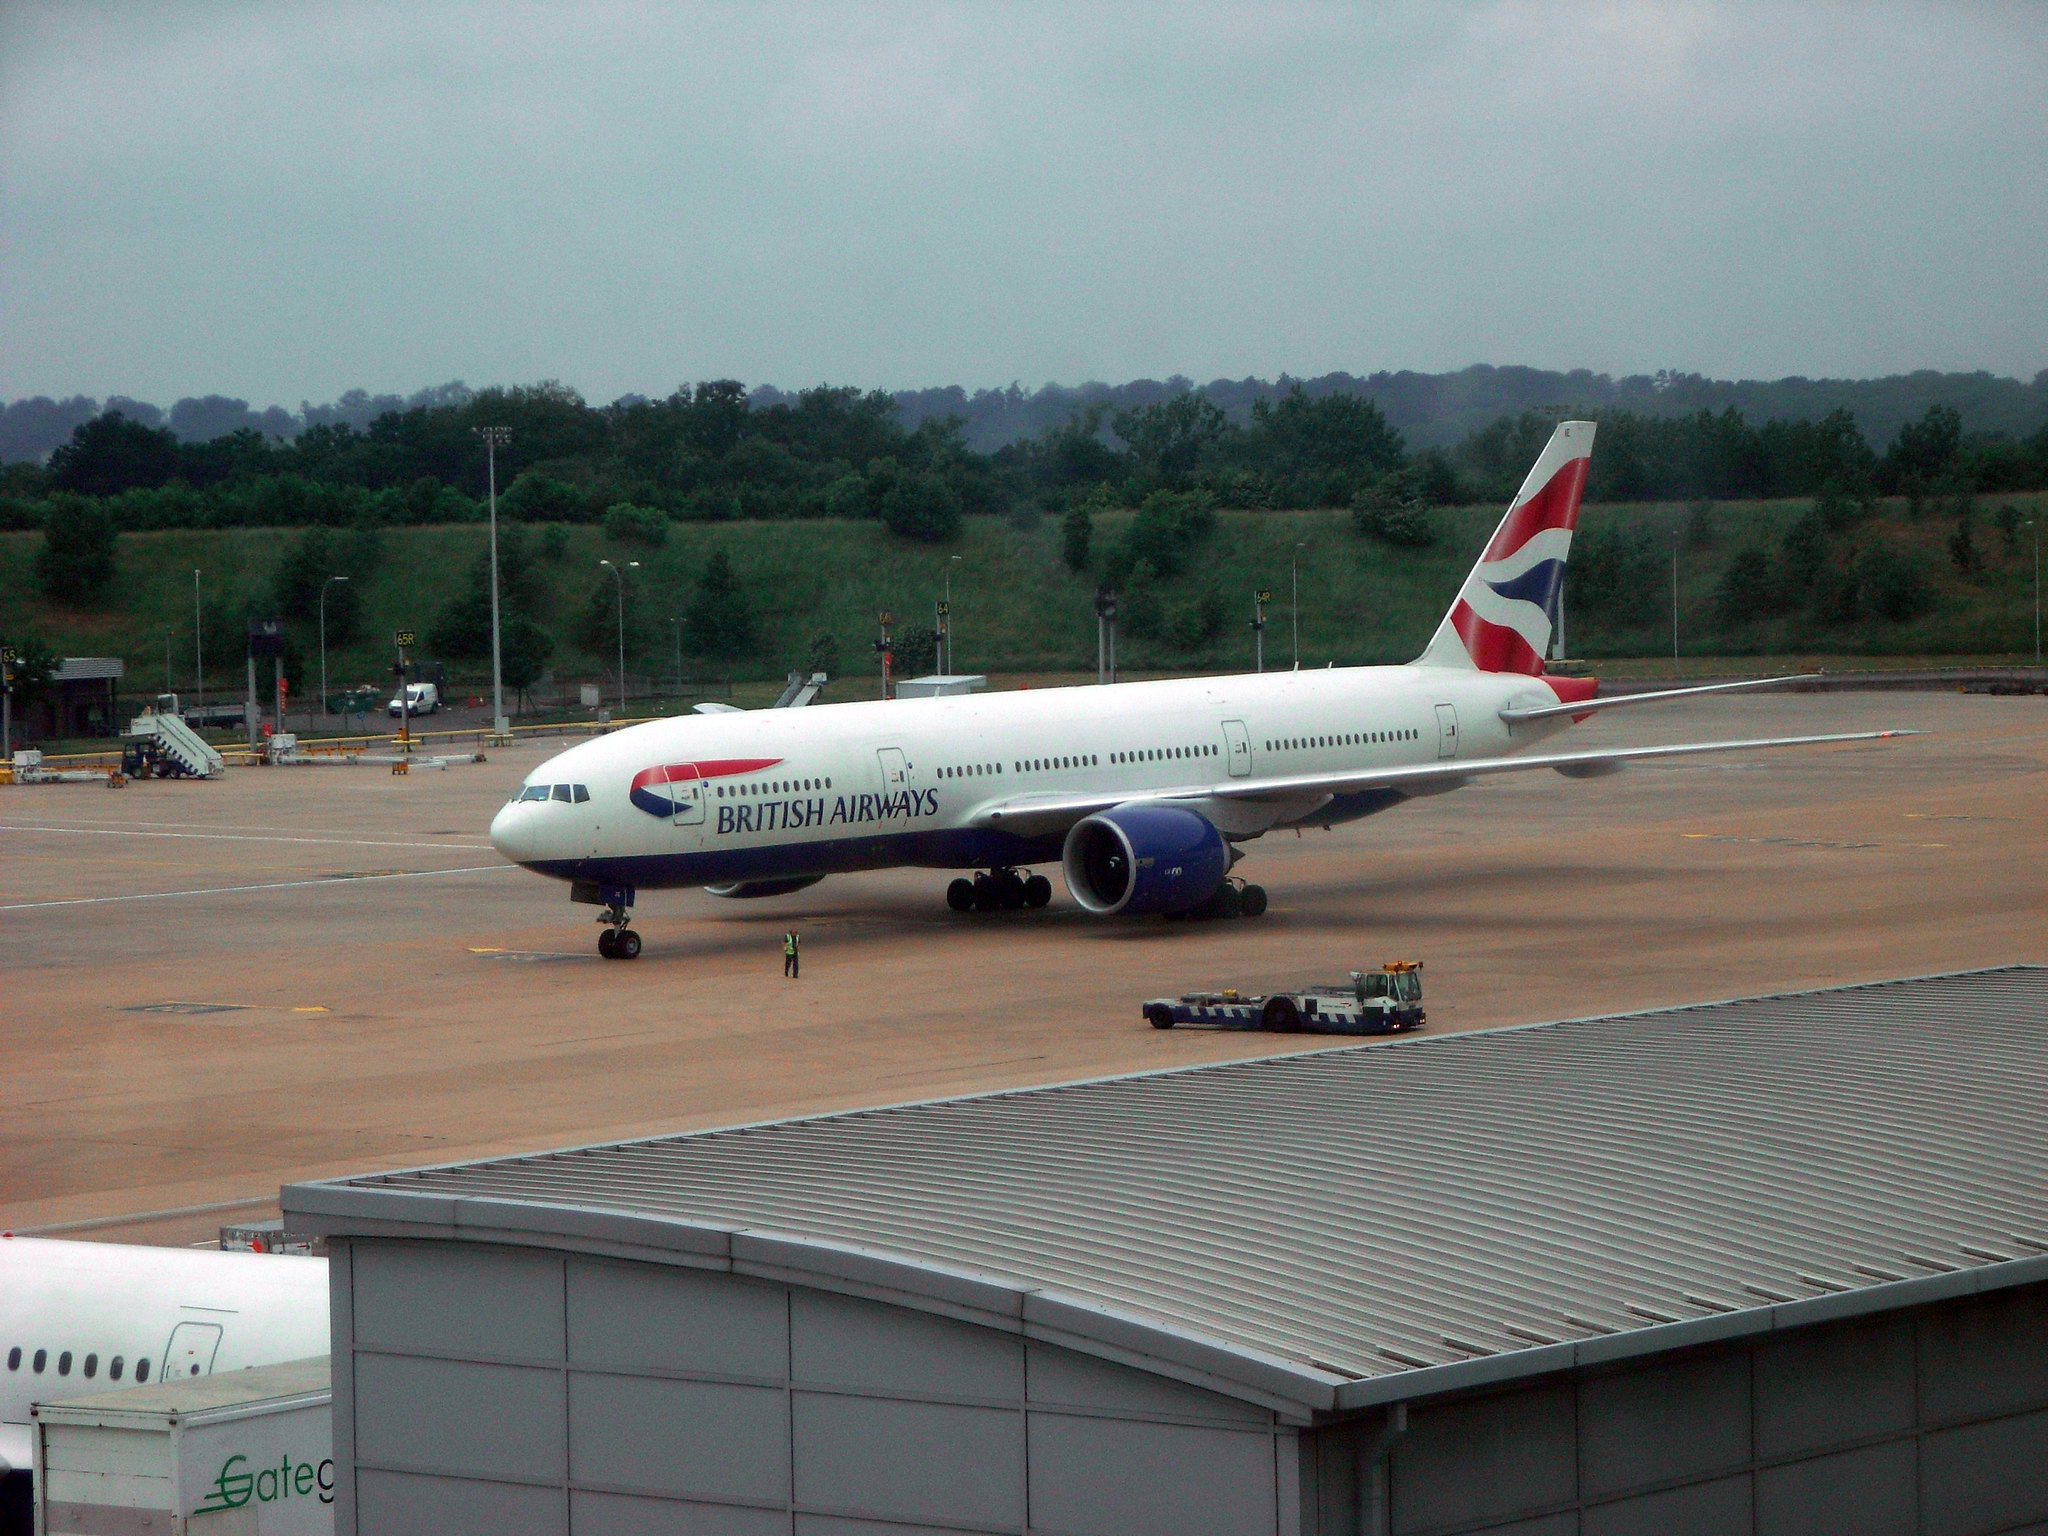aeroplane: (485, 399, 1858, 999)
